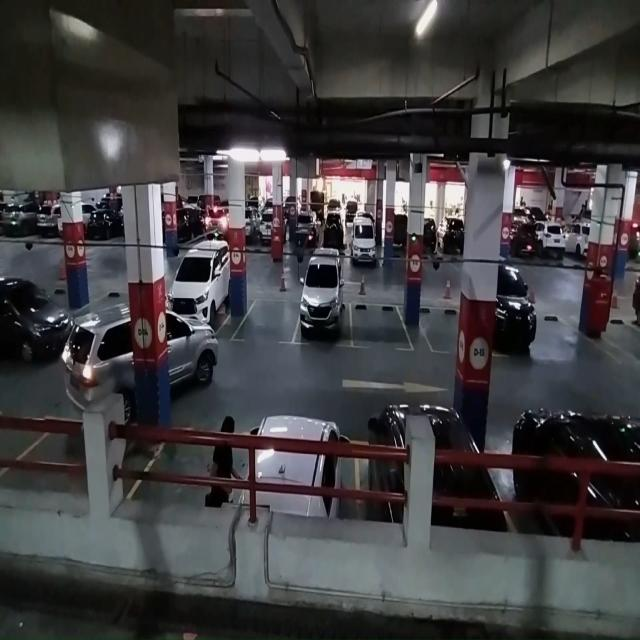empty: (348, 293, 411, 351), (240, 294, 296, 345), (420, 302, 462, 355)
occupied: (299, 267, 352, 347)
